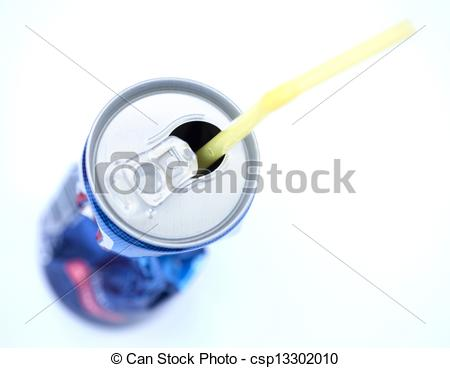can: (37, 75, 261, 330)
